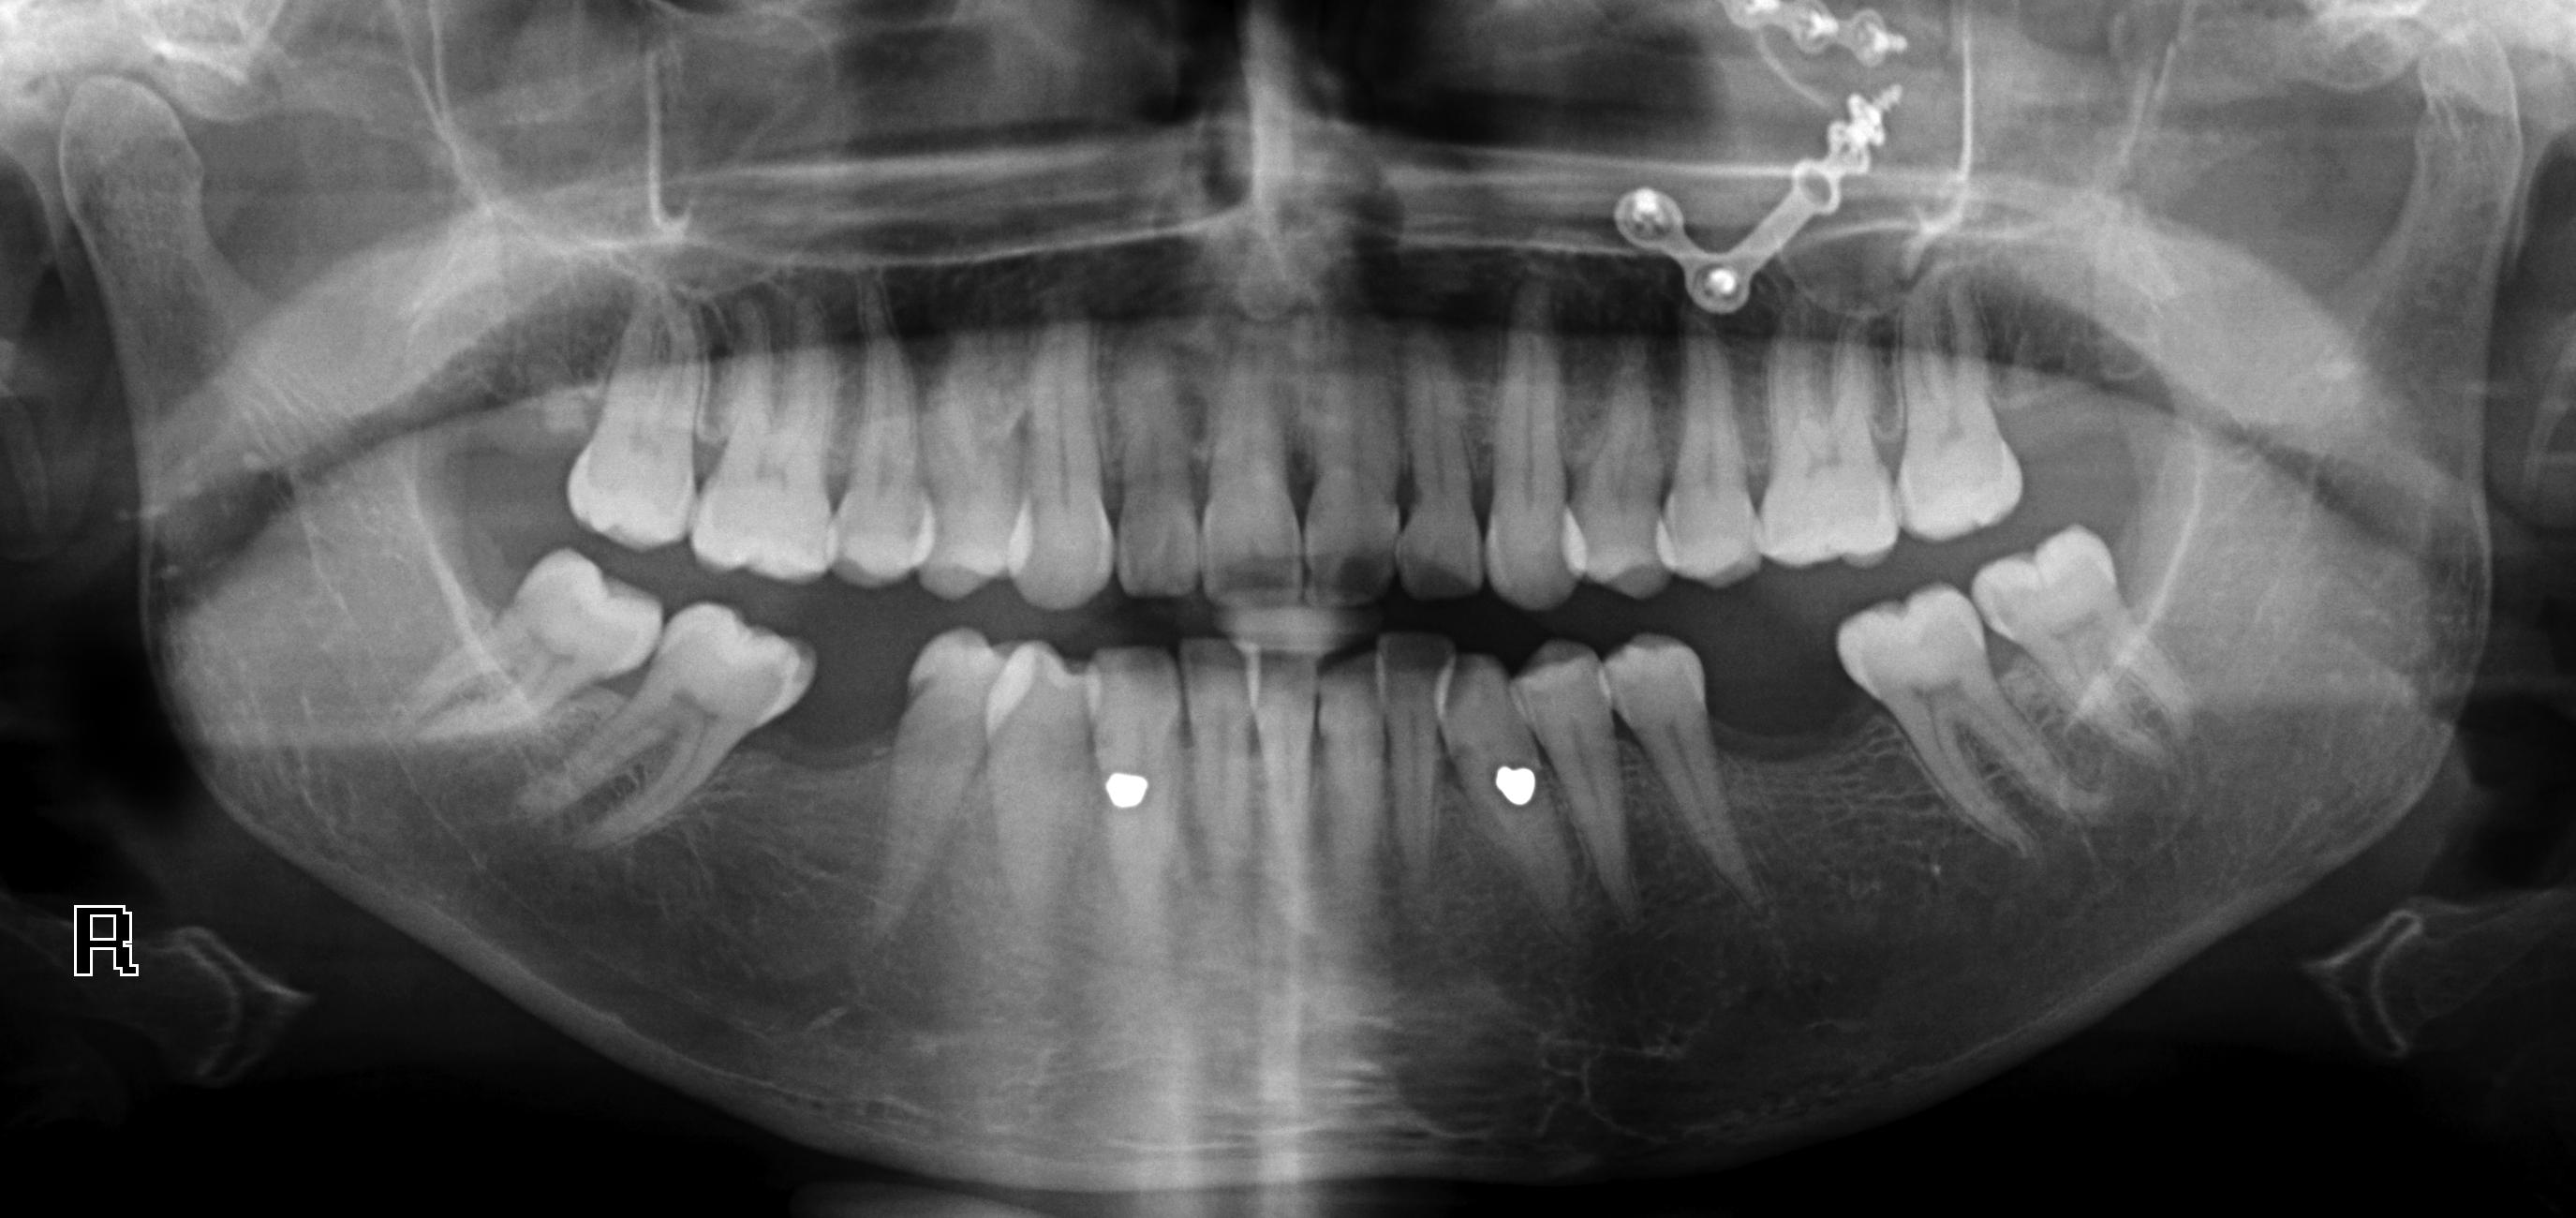Çürük: (1096, 764, 1153, 827), (1492, 764, 1539, 817)
Çürük Bölgesi: (1981, 577, 2014, 643), (785, 633, 820, 687), (1436, 736, 1464, 794)
